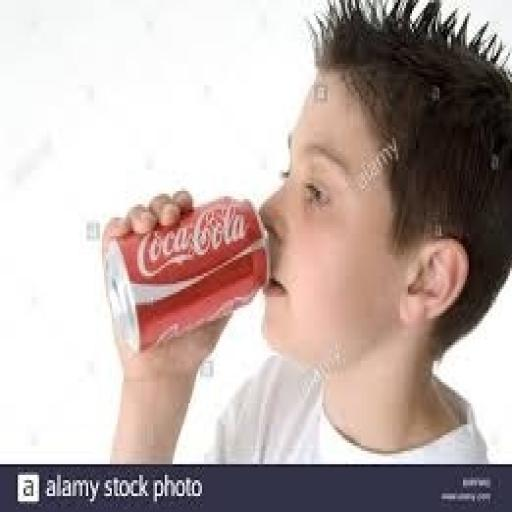drinking: (100, 188, 269, 356)
